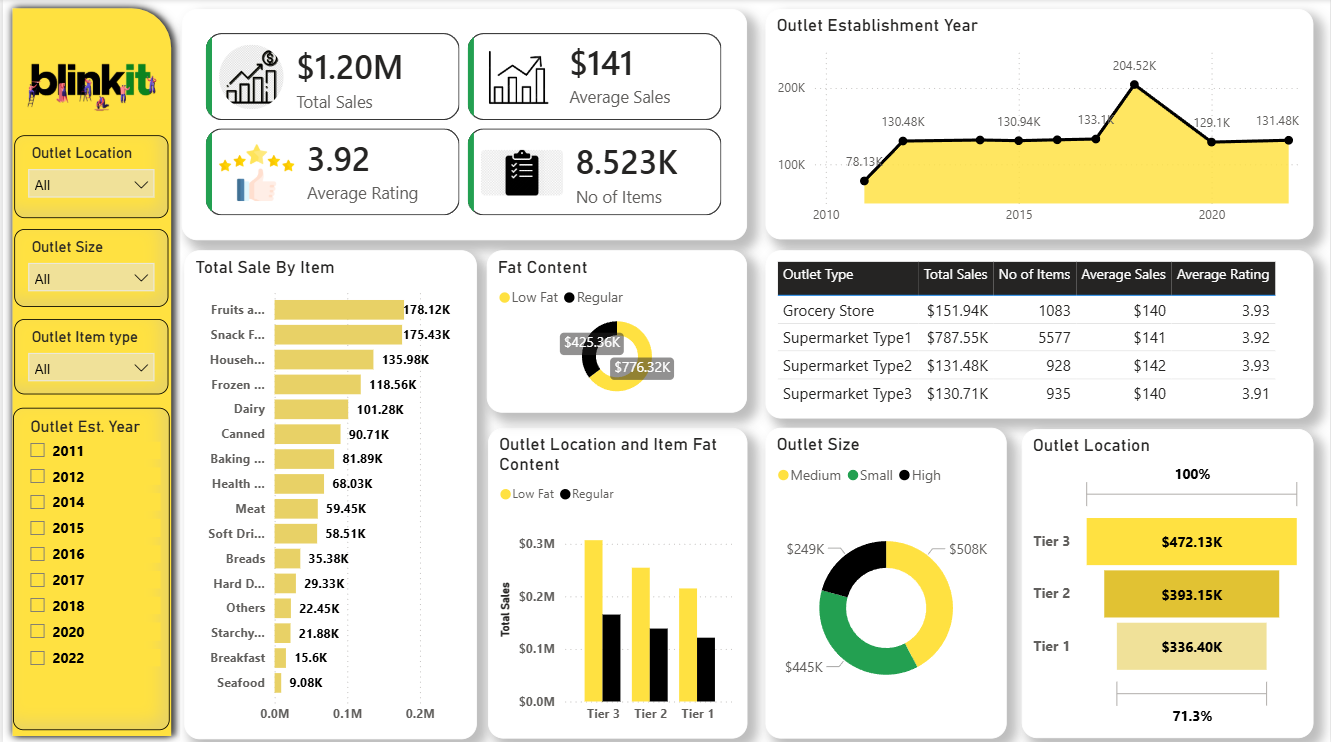

What the dashboard file says about the page in this screenshot:
{"tool":"powerbi","page":{"name":"Page 1","canvas":[1280,720],"ordinal":0},"visuals":[{"type":"shape","box":[0,0,171.3,720.2],"z":0},{"type":"cardVisual","fields":{"Data":["BlinkIT Grocery Data.Total Sales","BlinkIT Grocery Data.Average Sales","BlinkIT Grocery Data.Average Rating","BlinkIT Grocery Data.Iterm"]},"box":[172.5,9.7,545.3,223.2],"z":1000},{"type":"slicer","fields":{"Values":["BlinkIT Grocery Data.Outlet Location Type"]},"box":[11.2,131.2,148.8,80],"z":2000},{"type":"slicer","fields":{"Values":["BlinkIT Grocery Data.Outlet Size"]},"box":[11.2,222.5,148.8,75],"z":3000},{"type":"slicer","fields":{"Values":["BlinkIT Grocery Data.Item Type"]},"box":[11.2,308.8,148.8,72.5],"z":4000},{"type":"clusteredBarChart","title":"Total Sale By Item ","fields":{"Category":["BlinkIT Grocery Data.Item Type"],"Y":["Sum(BlinkIT Grocery Data.Sales)"]},"box":[174.9,242.5,282.3,471.7],"z":5000},{"type":"clusteredColumnChart","title":"Outlet Location and Item Fat Content","fields":{"Y":["BlinkIT Grocery Data.Total Sales"],"Category":["BlinkIT Grocery Data.Outlet Location Type"],"Series":["BlinkIT Grocery Data.Item Fat Content"]},"box":[467.5,413.8,250,300],"z":6000},{"type":"donutChart","title":" Fat Content","fields":{"Y":["BlinkIT Grocery Data.Total Sales"],"Category":["BlinkIT Grocery Data.Item Fat Content"]},"box":[466.9,242.5,250.9,156.8],"z":7000},{"type":"image","box":[10.9,27.7,149.6,109.8],"z":8000},{"type":"areaChart","title":"Outlet Establishment Year","fields":{"Category":["BlinkIT Grocery Data.Outlet Establishment Year"],"Y":["Sum(BlinkIT Grocery Data.Sales)"]},"box":[736.2,10,528.8,222.5],"z":9000},{"type":"slicer","fields":{"Values":["BlinkIT Grocery Data.Outlet Establishment Year"]},"box":[10,395,151.2,311.2],"z":9001},{"type":"tableEx","fields":{"Values":["BlinkIT Grocery Data.Outlet Type","BlinkIT Grocery Data.Total Sales","BlinkIT Grocery Data.No of Items","BlinkIT Grocery Data.Average Sales","BlinkIT Grocery Data.Average Rating"]},"box":[736.2,242.5,528.8,162.5],"z":9002},{"type":"donutChart","title":"Outlet Size","fields":{"Category":["BlinkIT Grocery Data.Outlet Size"],"Y":["BlinkIT Grocery Data.Total Sales"]},"box":[736.2,413.8,232.5,300],"z":9003},{"type":"funnel","title":" Outlet Location ","fields":{"Y":["BlinkIT Grocery Data.Total Sales"],"Category":["BlinkIT Grocery Data.Outlet Location Type"]},"box":[983.8,415,281.2,298.8],"z":9004}]}

Visuals, with their boxes in screenshot pixels (x1, y1, x2, y2), scaled from the page's 1280x720 canvas onto the 1331x742 screenshot:
shape: (left=0, top=0, right=178, bottom=741)
cardVisual - BlinkIT Grocery Data.Total Sales x BlinkIT Grocery Data.Average Sales: (left=179, top=10, right=746, bottom=240)
slicer - BlinkIT Grocery Data.Outlet Location Type: (left=12, top=135, right=166, bottom=218)
slicer - BlinkIT Grocery Data.Outlet Size: (left=12, top=229, right=166, bottom=307)
slicer - BlinkIT Grocery Data.Item Type: (left=12, top=318, right=166, bottom=393)
"Total Sale By Item " clusteredBarChart: (left=182, top=250, right=475, bottom=736)
"Outlet Location and Item Fat Content" clusteredColumnChart: (left=486, top=426, right=746, bottom=736)
" Fat Content" donutChart: (left=486, top=250, right=746, bottom=412)
image: (left=11, top=29, right=167, bottom=142)
"Outlet Establishment Year" areaChart: (left=766, top=10, right=1315, bottom=240)
slicer - BlinkIT Grocery Data.Outlet Establishment Year: (left=10, top=407, right=168, bottom=728)
tableEx - BlinkIT Grocery Data.Outlet Type x BlinkIT Grocery Data.Total Sales: (left=766, top=250, right=1315, bottom=417)
"Outlet Size" donutChart: (left=766, top=426, right=1007, bottom=736)
" Outlet Location " funnel: (left=1023, top=428, right=1315, bottom=736)
